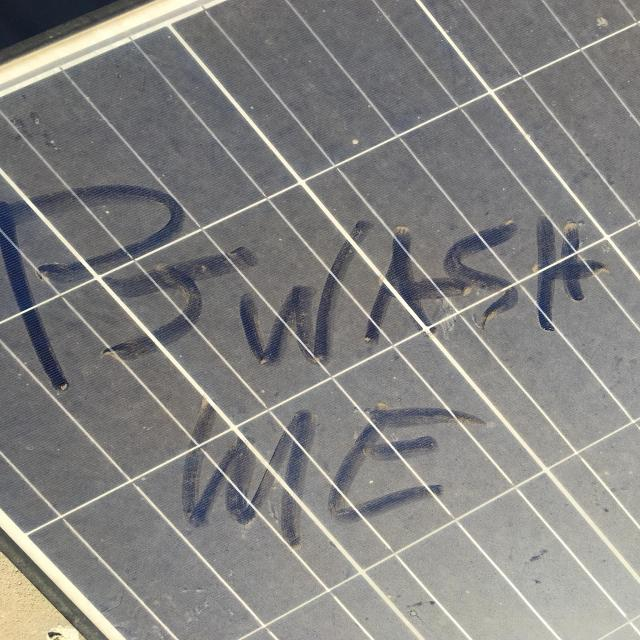dust-solar-panel: (0, 0, 638, 640)
